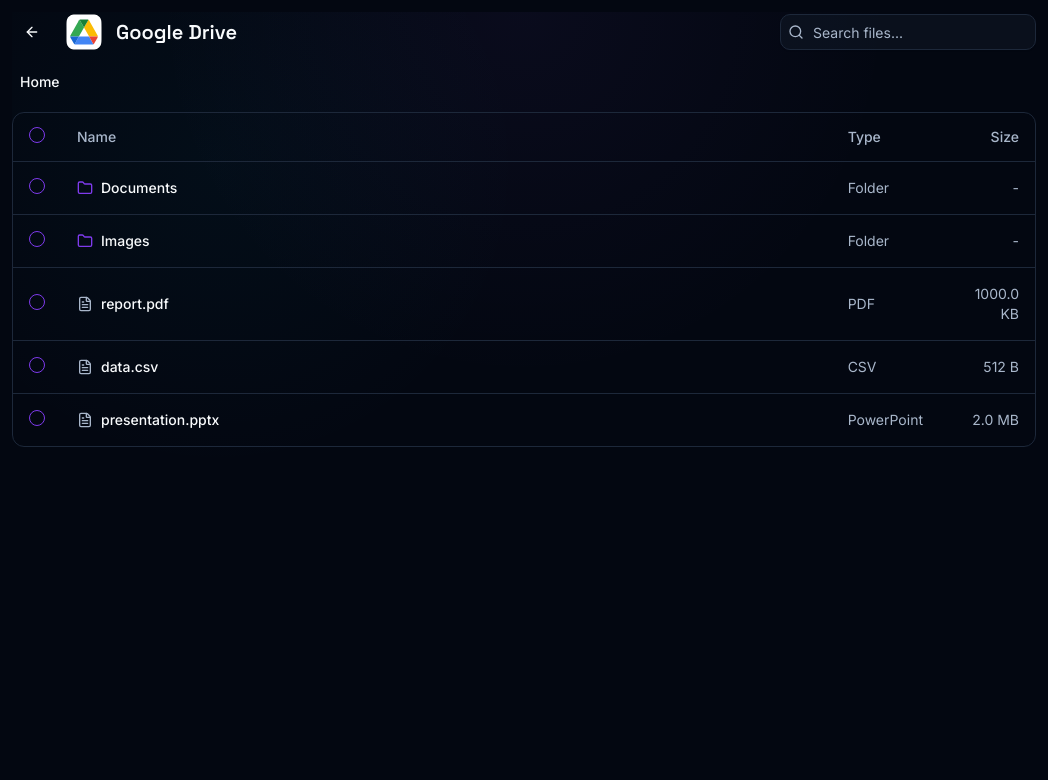
Test: FileBrowser › File Selection › should toggle all items when clicking header checkbox
Expected: the text "report.pdf" is shown, 101,294 -> 169,314
Click the checkbox next to "Name". click: point(37, 135)
box: 29,127 -> 45,143
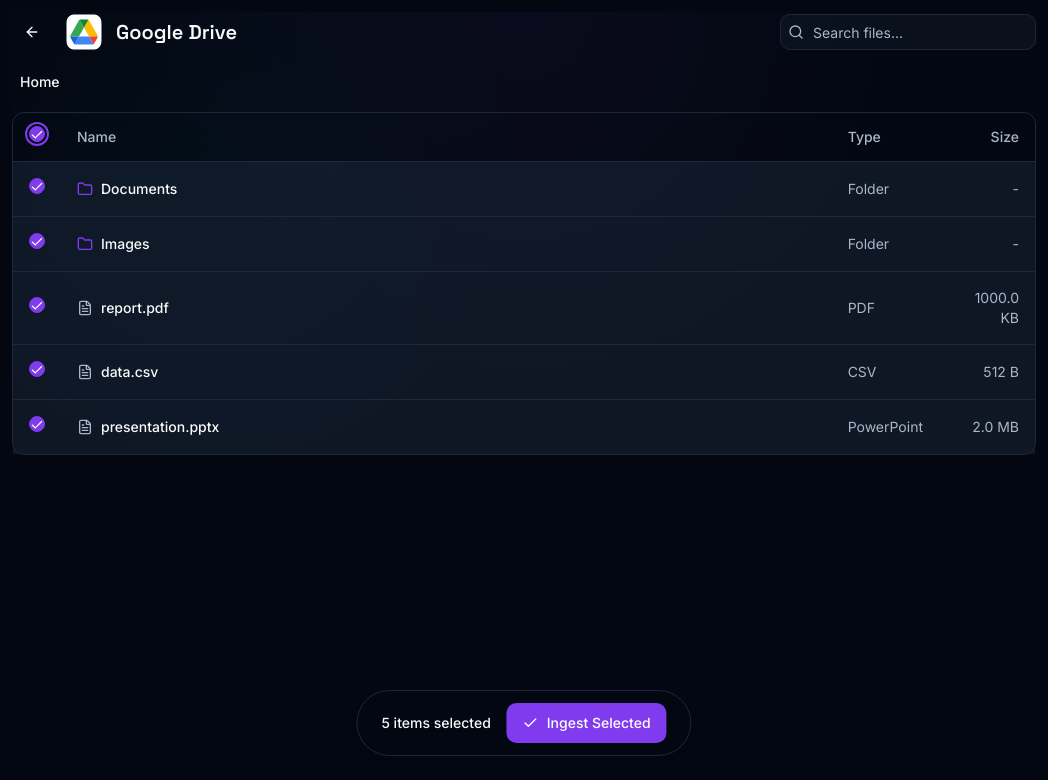
Expected: the text "5 items selected" is shown, 381,713 -> 491,733
